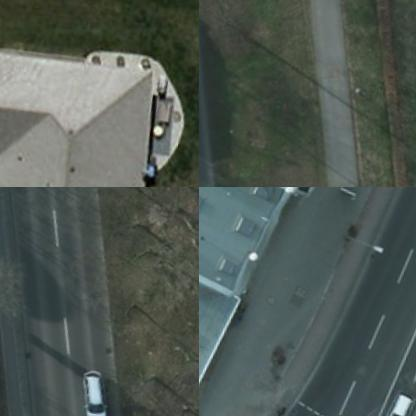car: (62, 367, 109, 415), (363, 390, 415, 415)
